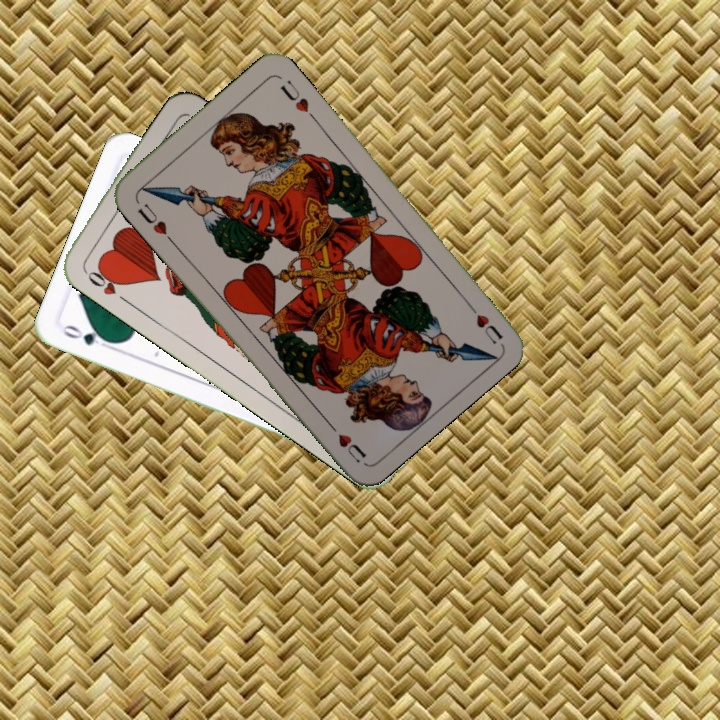GO: (58, 320, 116, 352)
HO: (79, 261, 130, 305)
HU: (461, 296, 505, 347), (133, 199, 176, 245)
